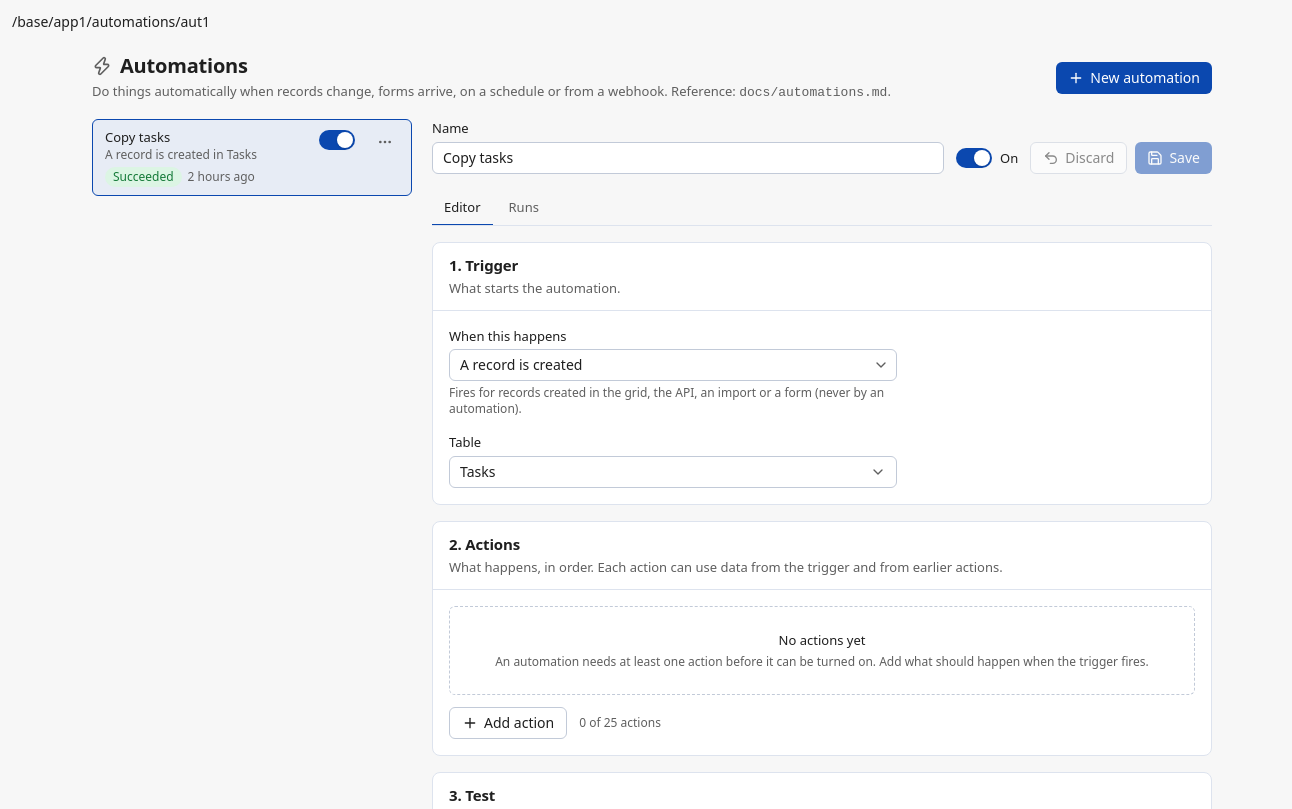
Test: routes and roles › opens the editor for the automation in the URL, and its Runs tab under /runs
Expected: the field labelled "Name" holds "Copy tasks", [432, 142, 944, 174]
Click the tab "Runs": (524, 208) [496, 190, 551, 226]
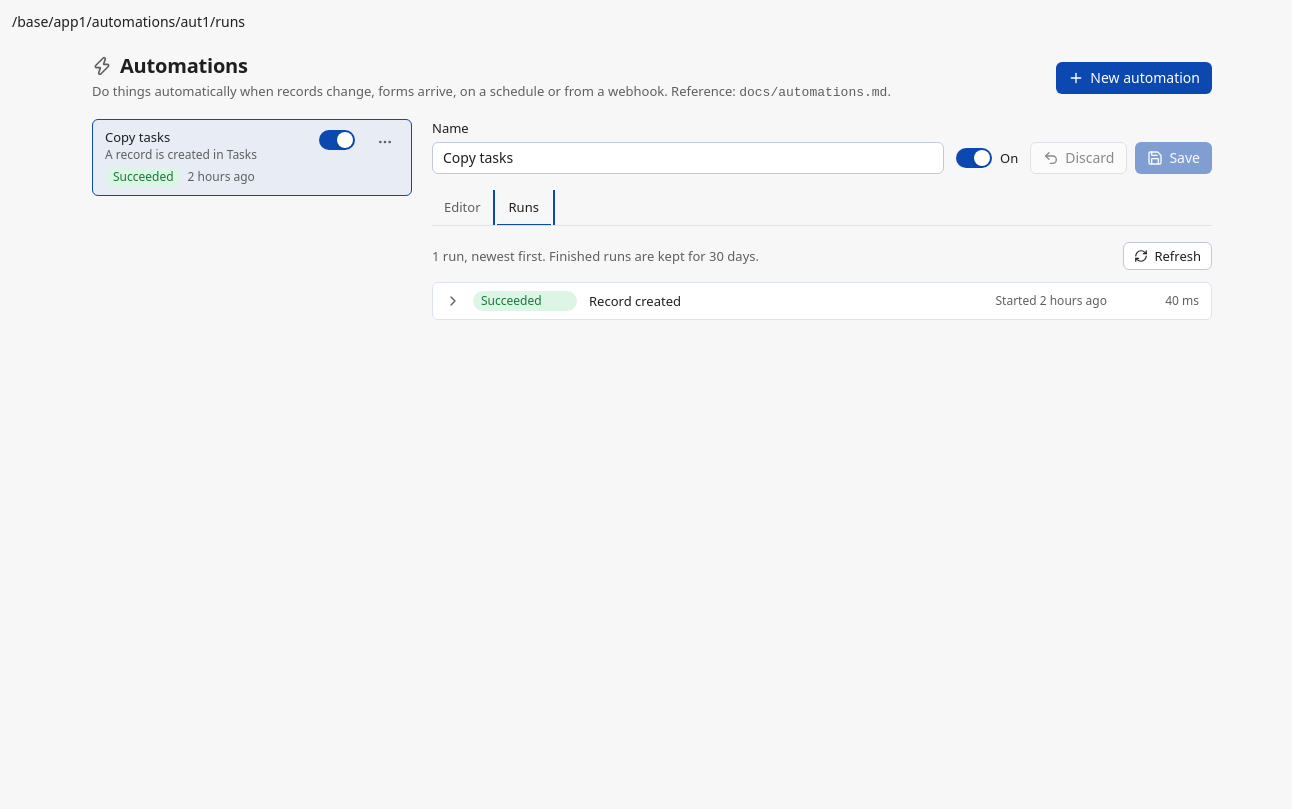
Expected: the text named "location" reads "/base/app1/automations/aut1/runs", [12, 12, 245, 31]
Expected: the list named "Runs" is shown, [432, 282, 1212, 320]
